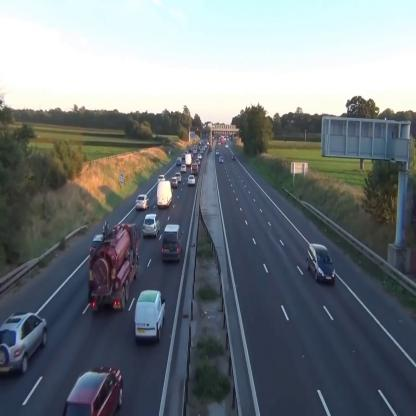car: (62, 365, 123, 416), (0, 312, 47, 374), (307, 244, 335, 284), (143, 213, 160, 239), (136, 194, 149, 209), (170, 177, 178, 188), (158, 174, 166, 184), (187, 174, 194, 185), (192, 165, 198, 175), (176, 173, 181, 181), (181, 164, 186, 172), (177, 160, 182, 166), (220, 155, 224, 162)
lorry: (90, 224, 141, 313), (134, 290, 166, 343), (161, 224, 182, 262), (157, 180, 173, 207), (185, 154, 191, 165)
